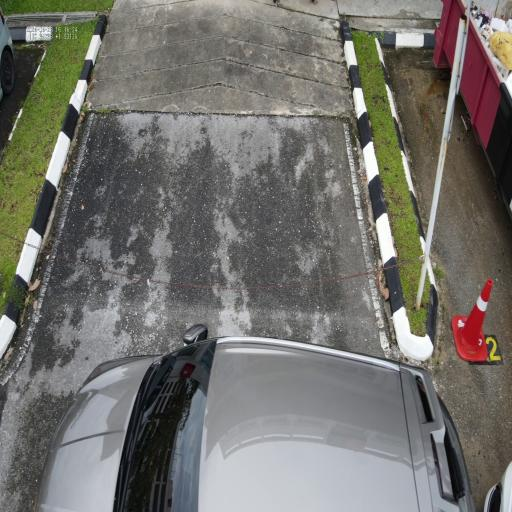Illegal: (31, 321, 476, 512)
